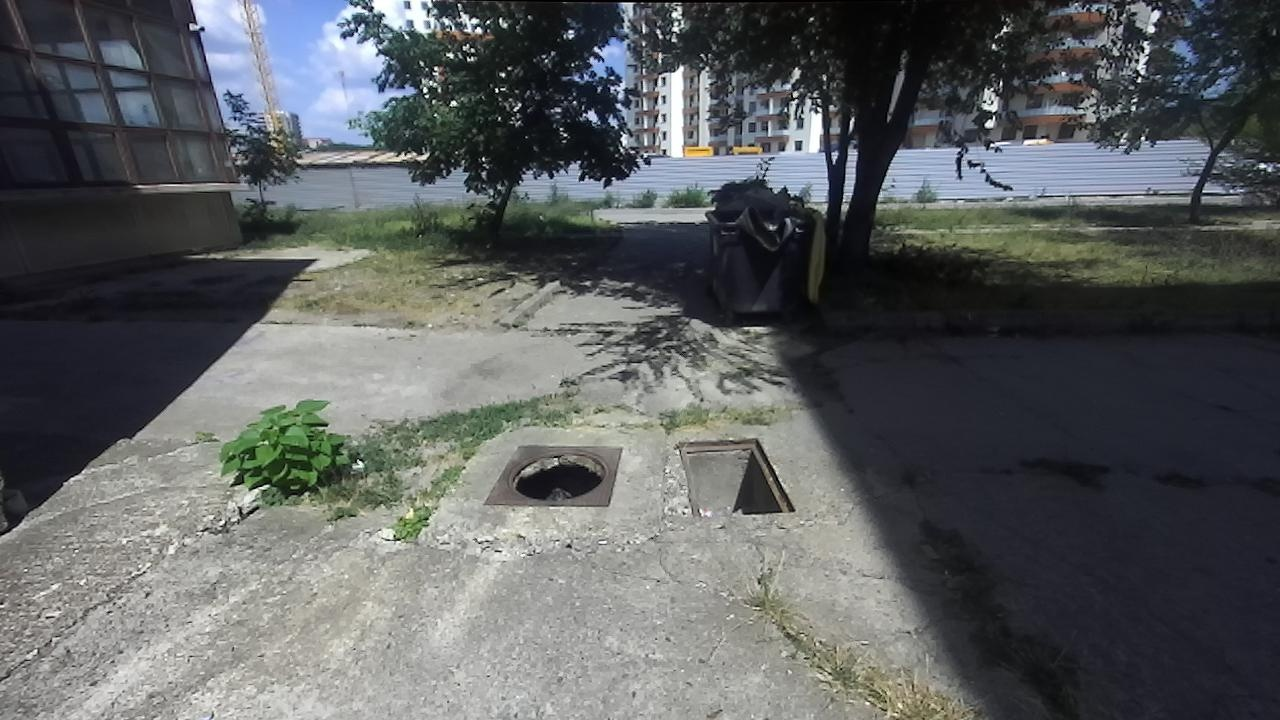drain: (670, 435, 795, 521), (503, 449, 608, 505)
